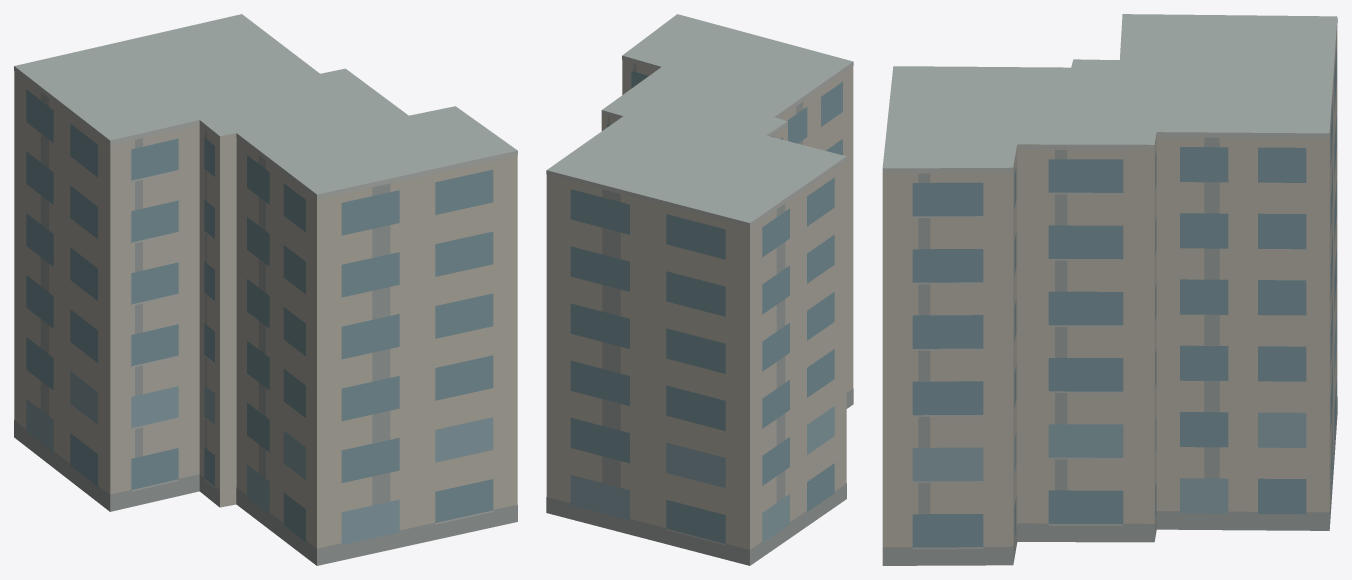
The model's file is survey-upis-32825895.glb.
3 renders of one model, left to right at view 1: azimuth 30°, elevation 25°; view 2: azimuth 150°, elevation 25°; view 3: azimuth 270°, elevation 25°, orthographic. The views are drawn at different scales.
Parts seen in each view (by area): view 1: survey-upis-32825895.tmp; view 2: survey-upis-32825895.tmp; view 3: survey-upis-32825895.tmp.
Boxes of the visible parts, <box> form: survey-upis-32825895.tmp: <box>14,14,517,565</box>; survey-upis-32825895.tmp: <box>546,14,853,565</box>; survey-upis-32825895.tmp: <box>882,14,1337,565</box>.
Bounding box in the file's own units: 15.25 × 18.3 × 18.99.
